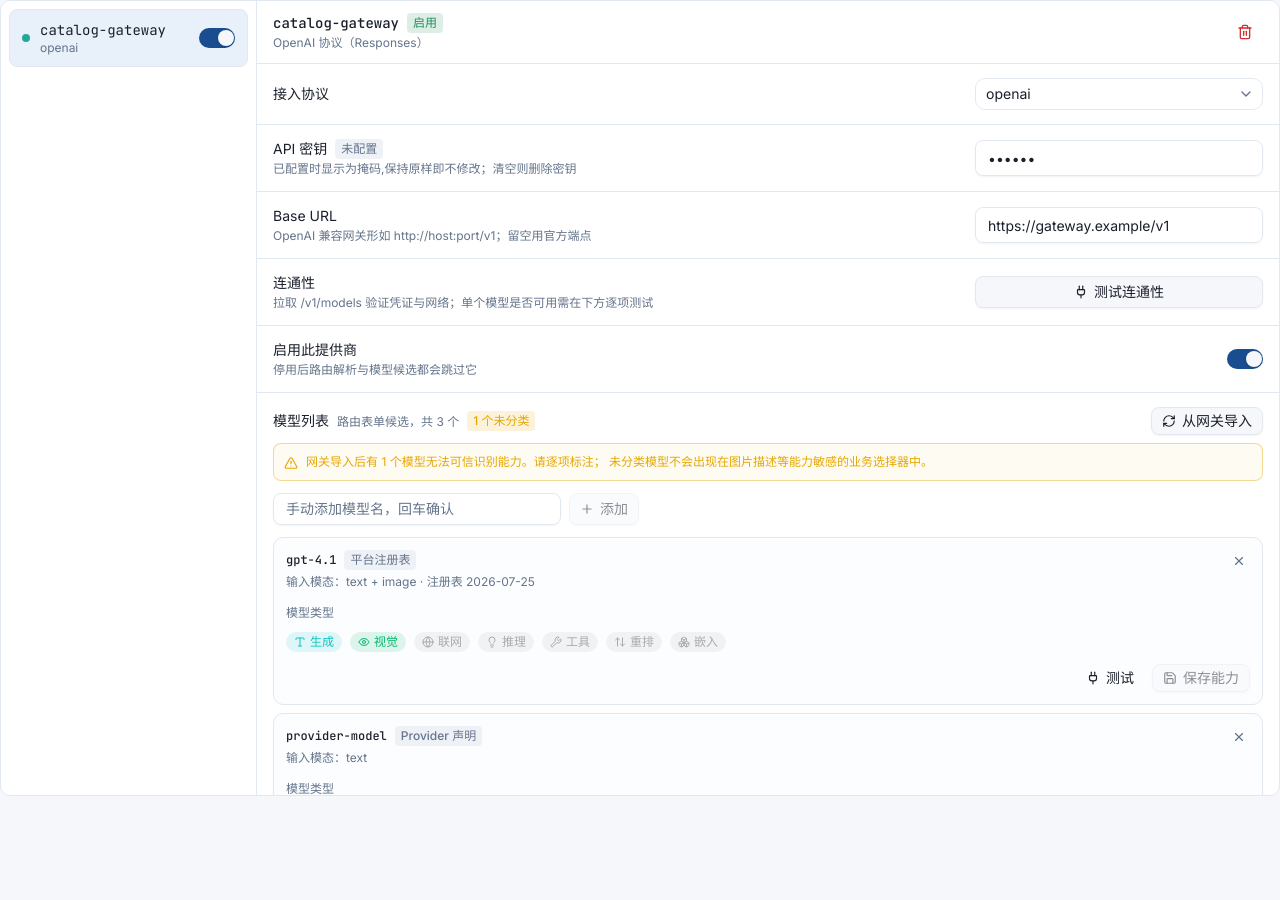
AdminProvidersPage model capabilities › instance connectivity check reports the catalog size
Click the button "测试连通性": coordinates (1119, 292) x1=975 y1=276 x2=1263 y2=308
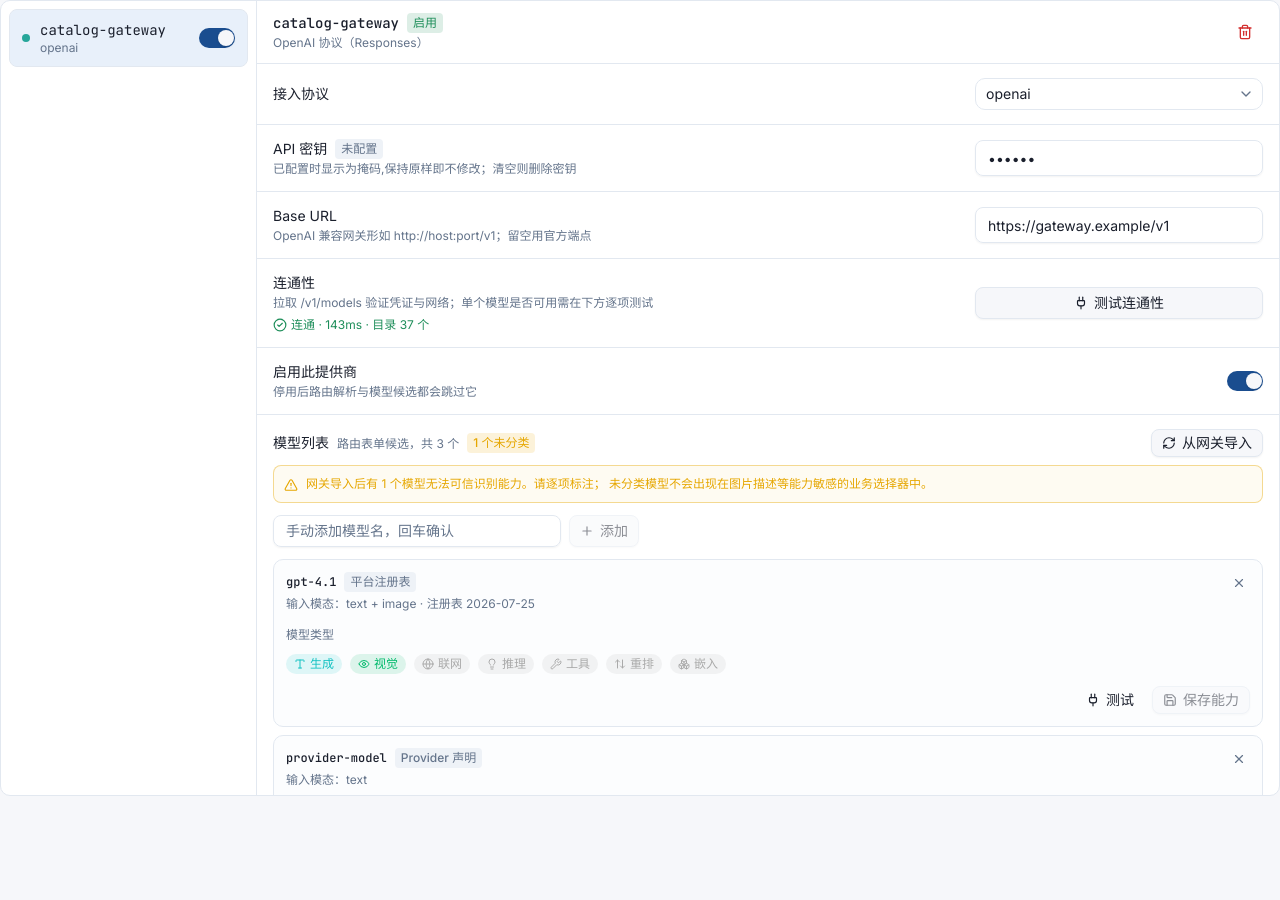
Expected: the text "连通 · 143ms · 目录 37 个" is shown, x1=273 y1=317 x2=429 y2=332
